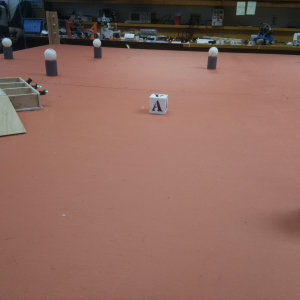blockA: (145, 92, 170, 118)
corner: (44, 11, 61, 44)
obstacle: (43, 49, 62, 76), (205, 44, 218, 70), (2, 38, 17, 60), (92, 39, 104, 60)
side: (2, 78, 46, 99)
slope: (1, 98, 23, 144)
